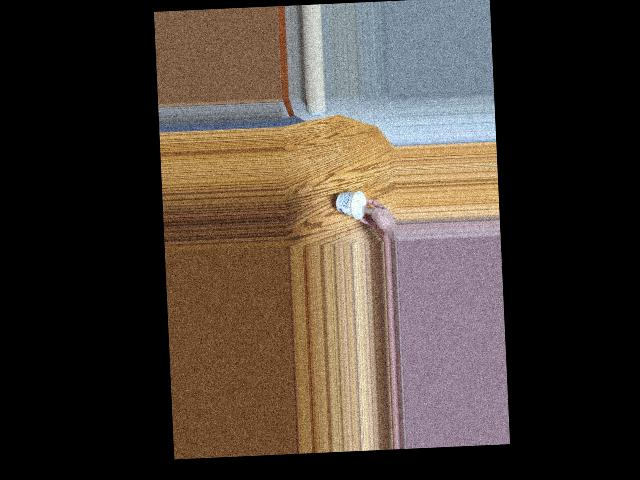cotage: (337, 188, 368, 221)
